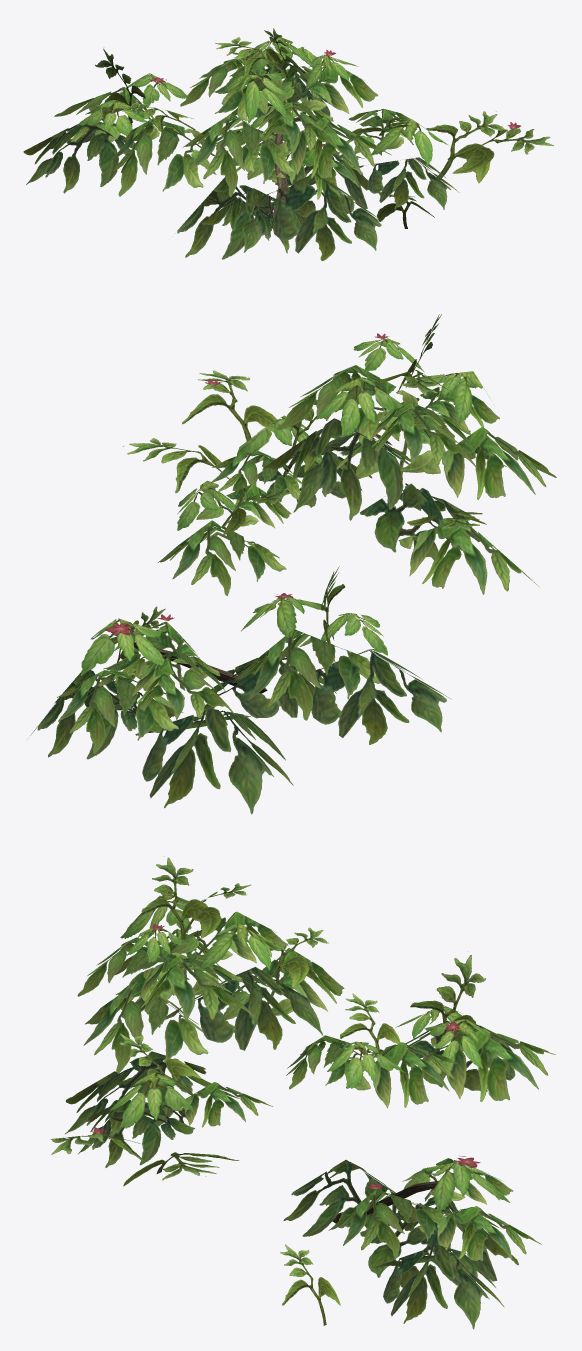
File: S_Tree_Green030_A2.FBX
3 renders of one model, top to bottom at view 1: azimuth 30°, elevation 25°; view 2: azimuth 150°, elevation 25°; view 3: azimuth 270°, elevation 25°, orthographic. The views are drawn at different scales.
Visible parts, largest first — view 1: S_Tree_Green030_A2_1; view 2: S_Tree_Green030_A2_1; view 3: S_Tree_Green030_A2_1.
Boxes of the visible parts, x1=… form: S_Tree_Green030_A2_1: x1=23, y1=28, x2=553, y2=260; S_Tree_Green030_A2_1: x1=27, y1=314, x2=556, y2=814; S_Tree_Green030_A2_1: x1=50, y1=856, x2=555, y2=1329.
Bounding box in the file's own units: 335 × 255 × 340.
